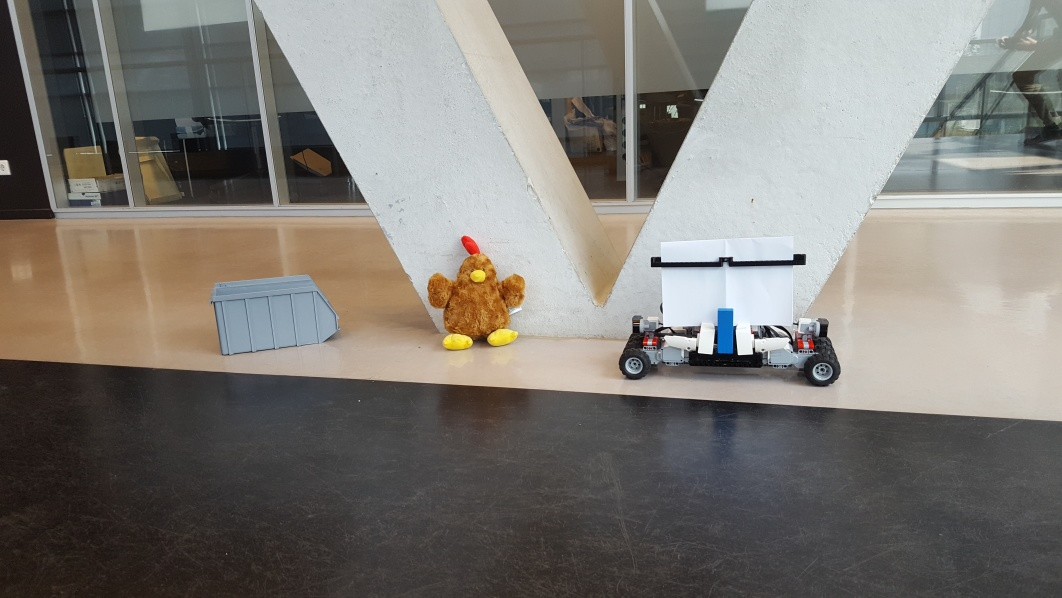beam: (713, 309, 738, 357)
chicken: (428, 234, 528, 352)
tray: (206, 274, 340, 357)
